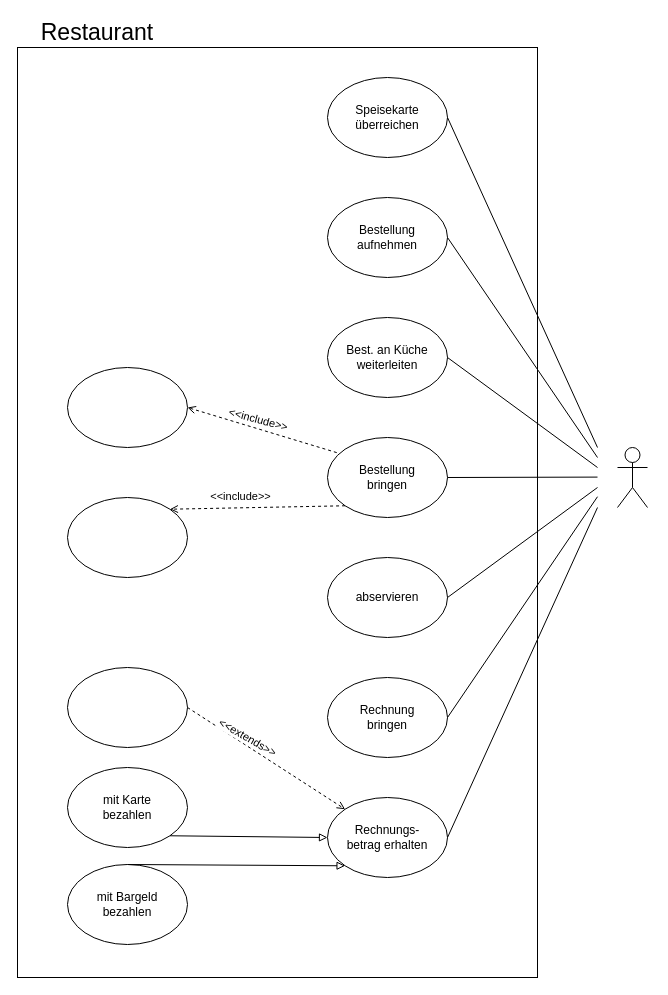
Some shapes in this 668 by 995 pixel diagram are drawn without their labels. The centre of each missing label's shape, as x and y in pixels:
"Essen liefern" goes at pixel 127 407.
"Getränke liefern" goes at pixel 127 537.
"Kellner" goes at pixel 632 477.
"Tringeld erhalten" goes at pixel 127 707.
